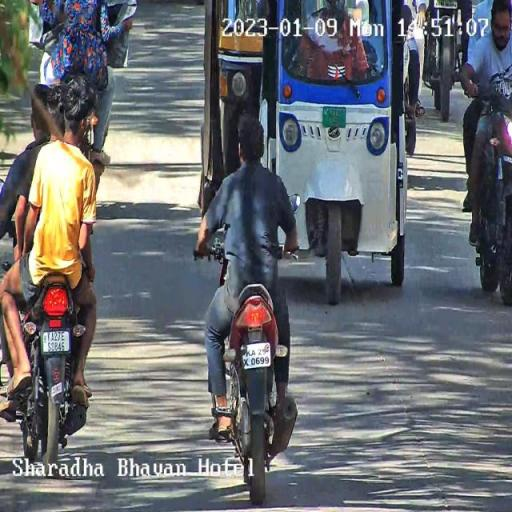tripple riding: (0, 66, 108, 358)
